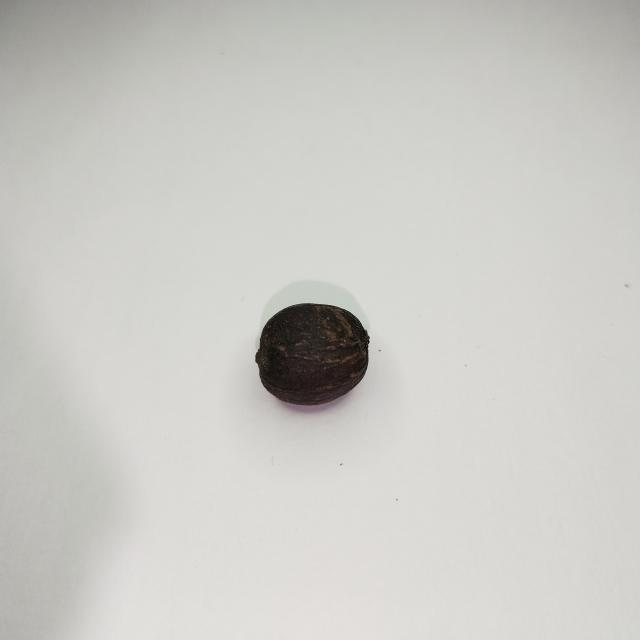Danado: (255, 306, 368, 411)
